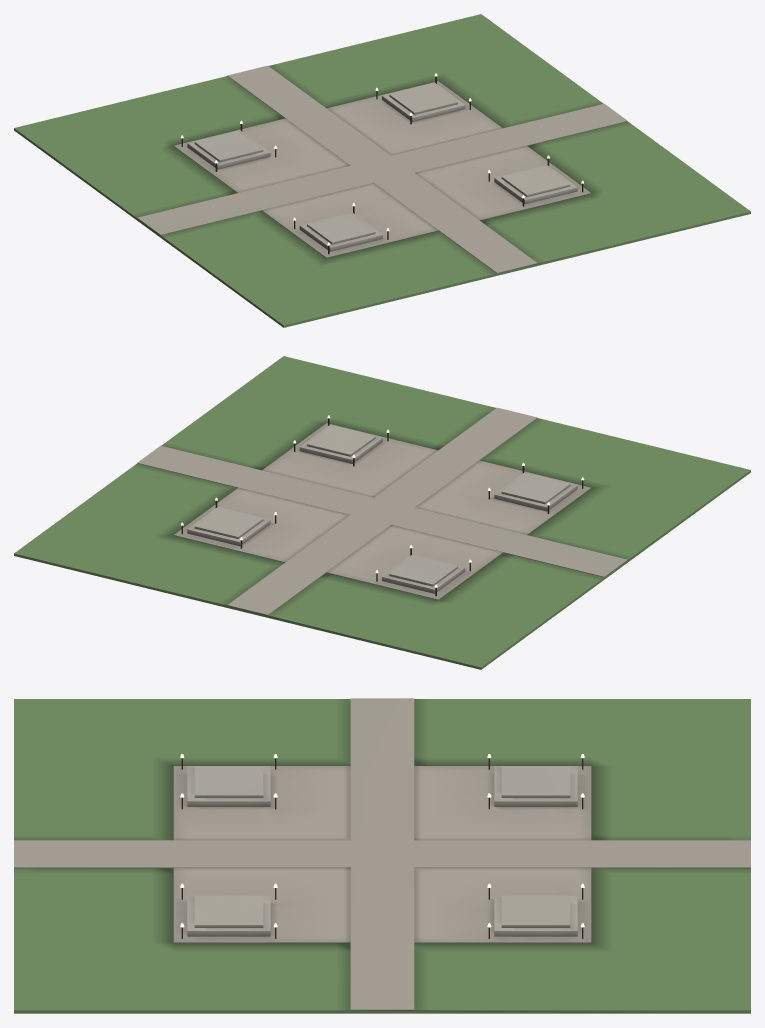
Rendered from 01_champ_de_mars.glb.
The picture shows the model from 3 angles, top to bottom: view 1: azimuth 30°, elevation 25°; view 2: azimuth 150°, elevation 25°; view 3: azimuth 270°, elevation 25°; orthographic projection. The views are drawn at different scales.
Parts seen in each view (by area): view 1: champ_de_mars_grass, champ_de_mars_gravel, champ_de_mars_stone; view 2: champ_de_mars_grass, champ_de_mars_gravel, champ_de_mars_stone; view 3: champ_de_mars_grass, champ_de_mars_gravel, champ_de_mars_stone.
Boxes of the visible parts, x1,y1,x2,y2 form: champ_de_mars_grass: (14,14,750,327); champ_de_mars_gravel: (137,65,627,273); champ_de_mars_stone: (187,82,577,251); champ_de_mars_grass: (14,356,750,669); champ_de_mars_gravel: (137,407,627,615); champ_de_mars_stone: (187,424,577,593); champ_de_mars_grass: (14,699,750,1013); champ_de_mars_gravel: (14,698,750,1010); champ_de_mars_stone: (187,766,577,936).
Size of the model in its own units: 300 by 8.6 by 300.
